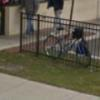bicycles: (43, 26, 92, 68)
